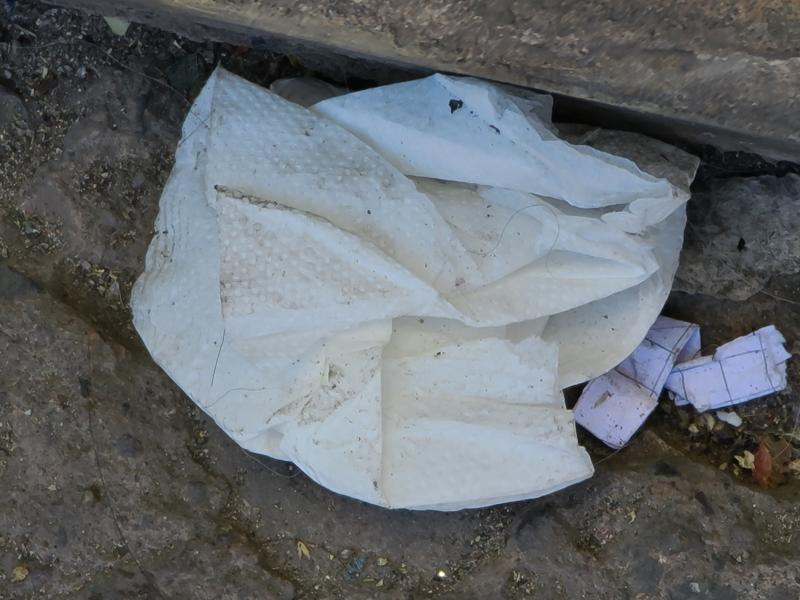papel: (125, 66, 790, 516)
